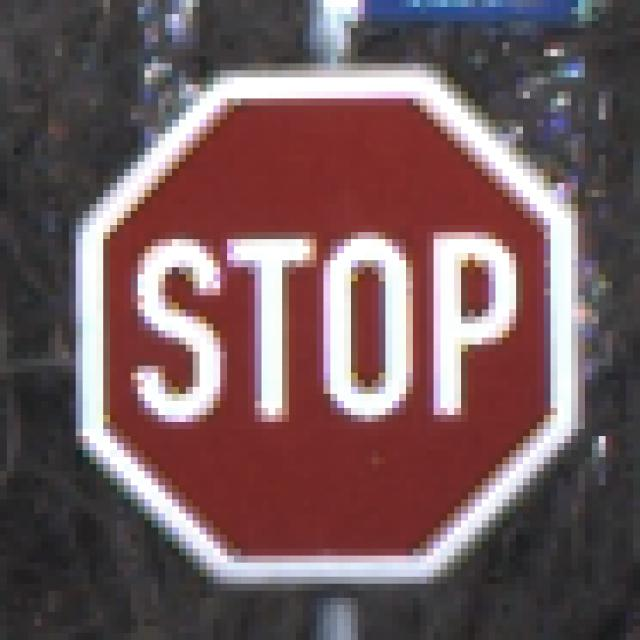STOP: (63, 57, 586, 585)
